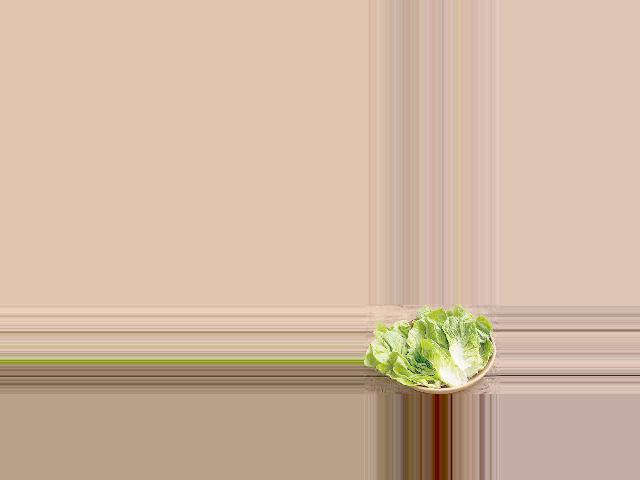lettuce: (366, 309, 501, 393)
